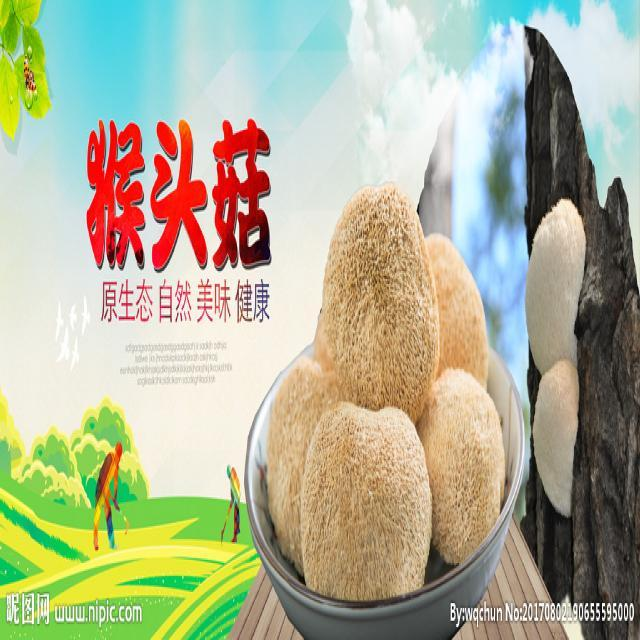Hericium erinaceus: (318, 191, 439, 413), (302, 399, 430, 598), (419, 373, 505, 562), (266, 355, 327, 567), (527, 196, 585, 367), (427, 234, 487, 395), (533, 355, 579, 512)
